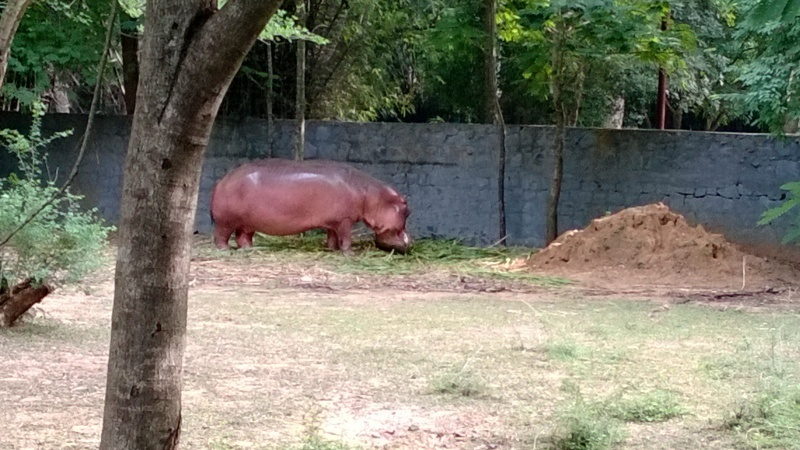hipopotamo: (207, 159, 419, 257)
